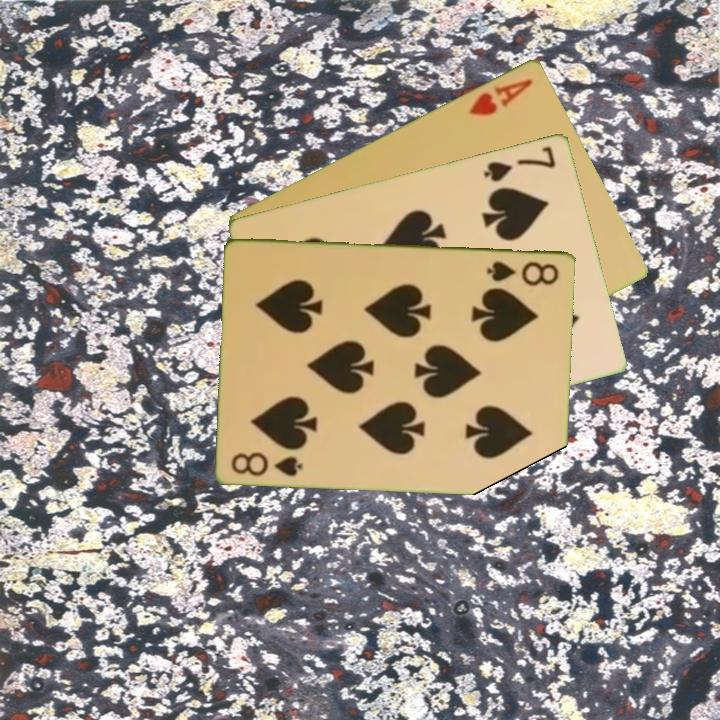7s: (480, 142, 559, 185)
8s: (484, 257, 562, 288), (228, 448, 306, 479)
Ah: (465, 74, 536, 119)
